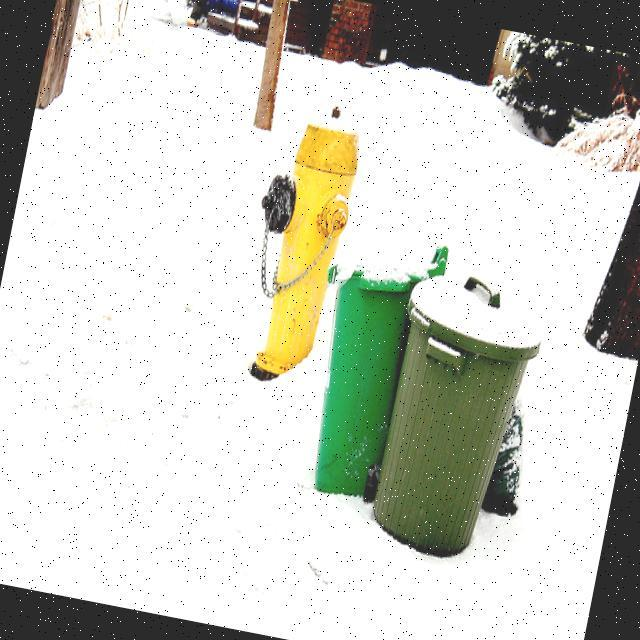fire_hydrant: (228, 96, 370, 394)
